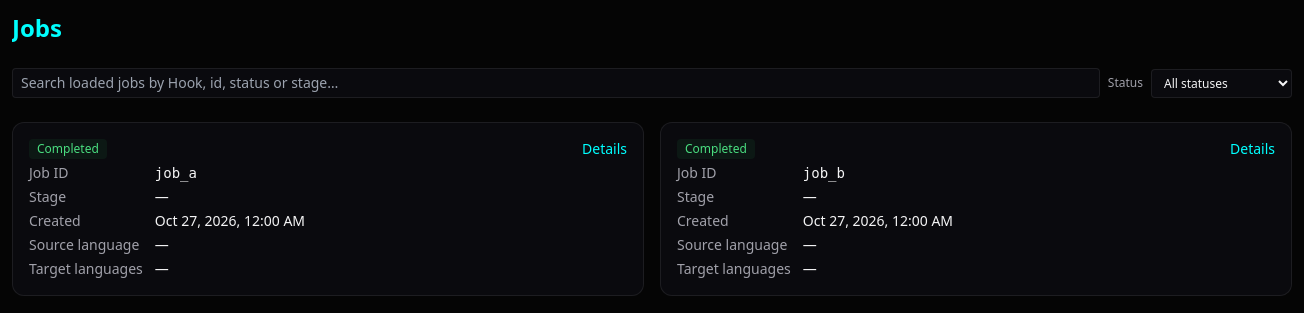
Scenario: JobsPage › filters by status server-side via the status dropdown
Expected: the text "job_a" is shown, x1=155 y1=165 x2=197 y2=181
Select "Failed" in the dropdown labelled "Status". click: (1222, 83)
box: x1=1151 y1=68 x2=1292 y2=98
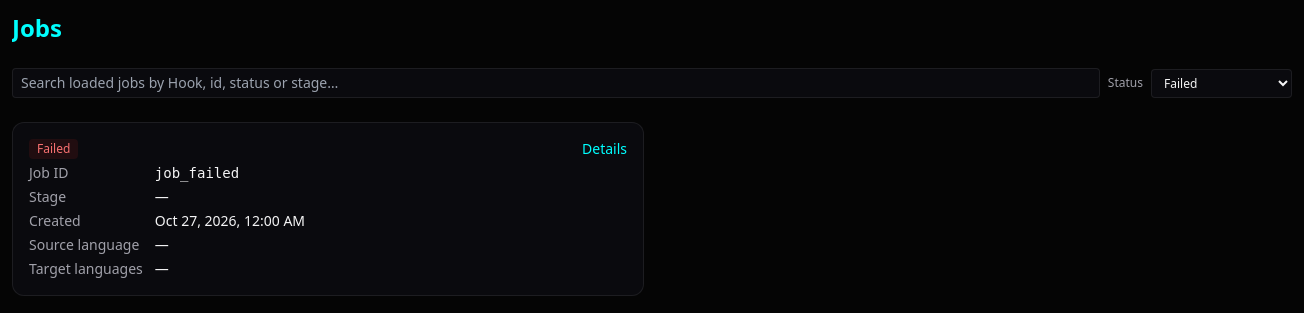
Expected: the text "job_failed" is shown, x1=155 y1=165 x2=239 y2=181
Expected: the text "job_a" is gone
